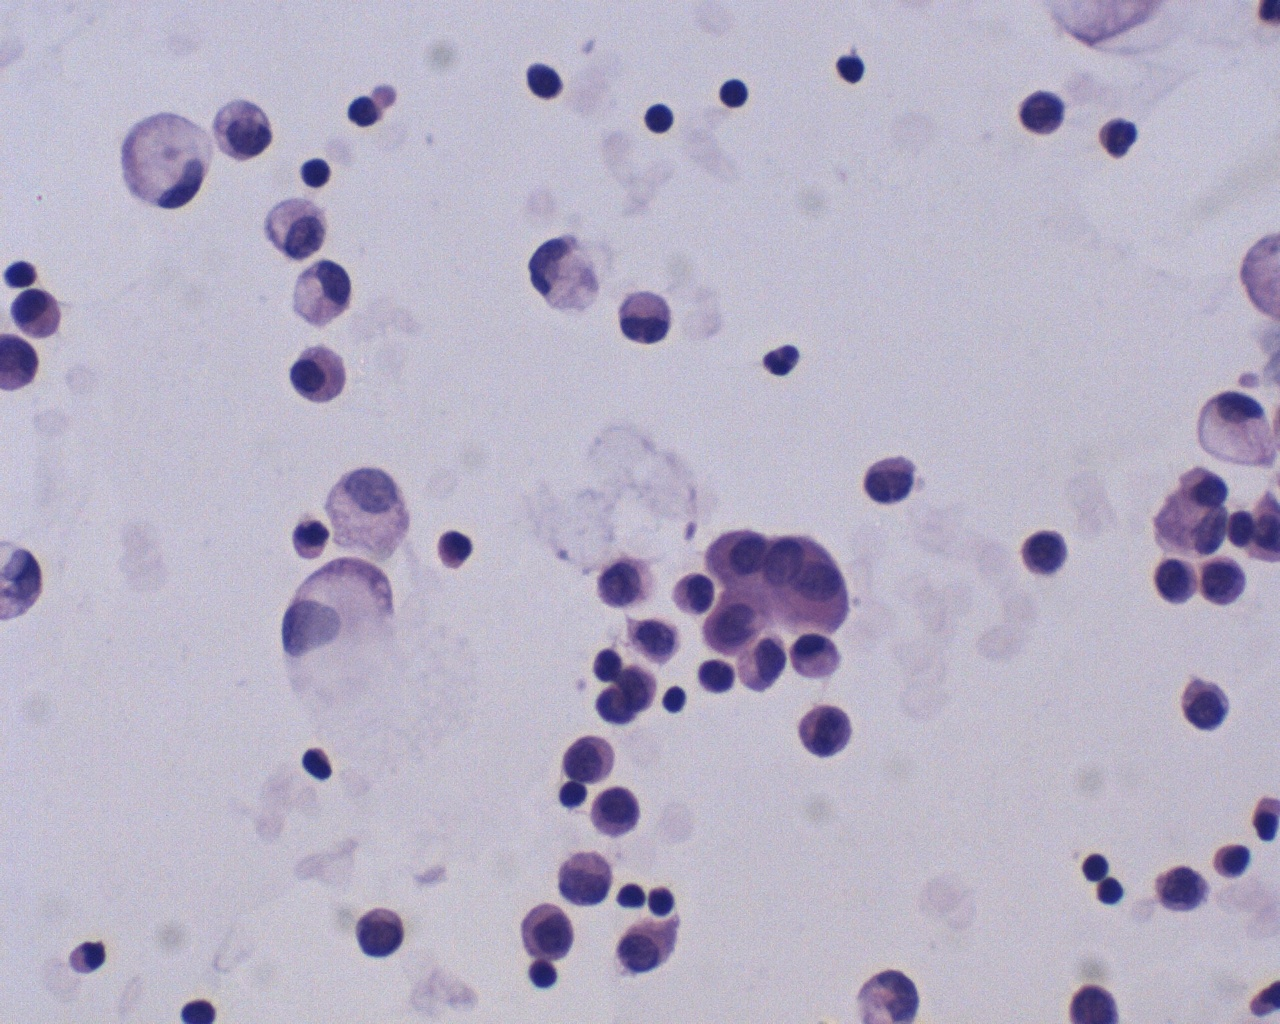ab: (705, 583, 777, 664), (348, 897, 410, 965), (513, 897, 578, 959), (856, 448, 924, 508), (789, 704, 855, 763), (557, 728, 619, 789), (1173, 673, 1234, 734), (1153, 549, 1204, 610), (1013, 527, 1071, 580), (1195, 552, 1250, 607)
histo: (114, 108, 213, 215), (1191, 382, 1279, 471), (289, 253, 360, 329)
lymph: (645, 877, 683, 921), (1074, 845, 1116, 885), (643, 98, 680, 140), (294, 153, 334, 190), (718, 72, 757, 111), (655, 682, 690, 720)
meso: (279, 339, 364, 412)
neutro: (760, 338, 808, 385), (1097, 110, 1141, 161)
